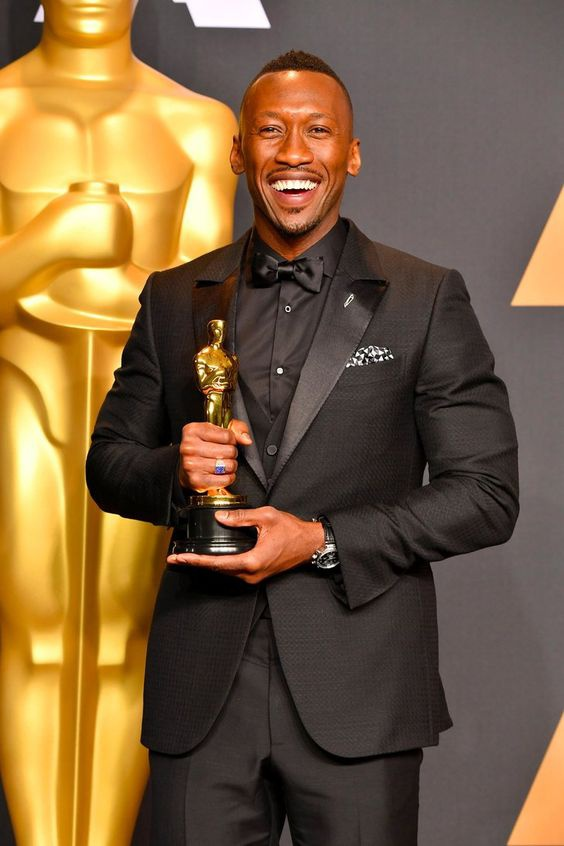hand: (174, 419, 240, 483)
